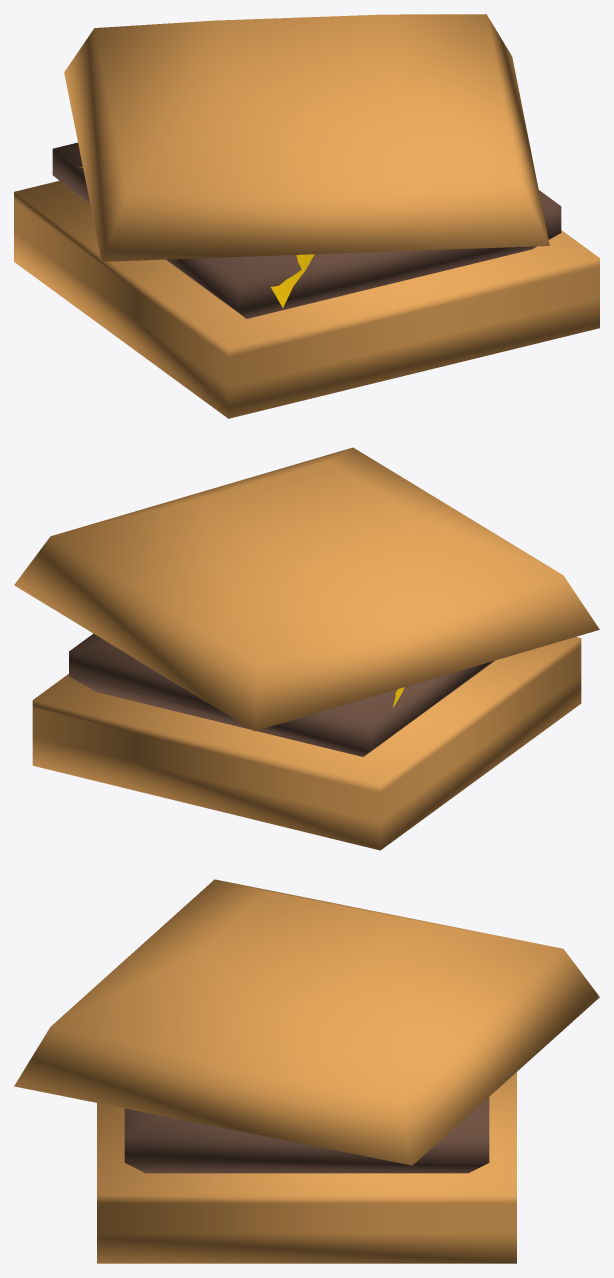
File: hamburger.glb
The picture shows the model from 3 angles, top to bottom: view 1: azimuth 30°, elevation 25°; view 2: azimuth 150°, elevation 25°; view 3: azimuth 270°, elevation 25°; orthographic projection. The views are drawn at different scales.
Parts seen in each view (by area): view 1: Cube.002, Cube, Cube.001, Plane; view 2: Cube.002, Cube, Cube.001; view 3: Cube.002, Cube, Cube.001.
Part boxes in pixels (box(x1,y1,x2,y2)): Cube.002: box(64, 14, 549, 261); Cube: box(14, 180, 599, 418); Cube.001: box(52, 142, 561, 318); Plane: box(79, 166, 314, 307); Cube.002: box(14, 447, 599, 731); Cube: box(32, 637, 581, 850); Cube.001: box(69, 633, 494, 756); Cube.002: box(14, 879, 599, 1165); Cube: box(97, 1072, 516, 1263); Cube.001: box(124, 1097, 489, 1173).
Size of the model in its own units: 1.39 by 0.6221 by 1.39.
